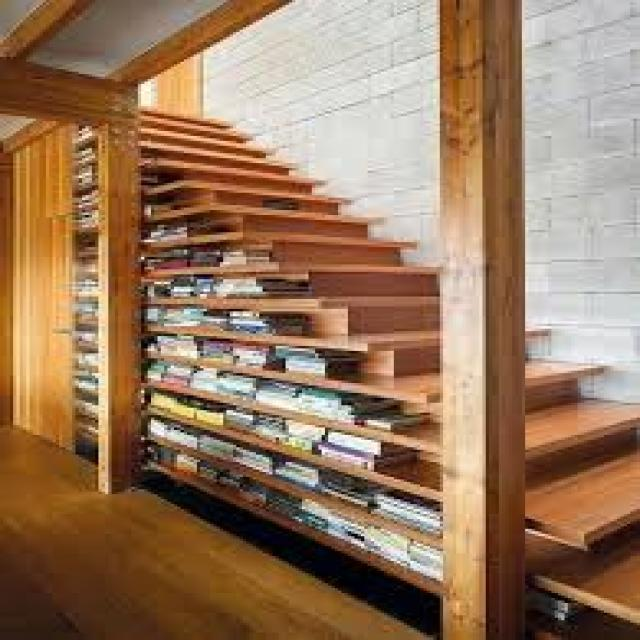stair: (168, 127, 640, 631)
